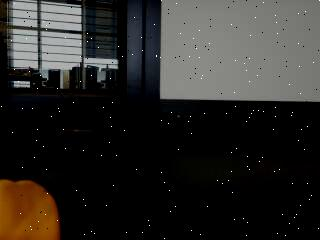Capsicum: (0, 178, 64, 240)
